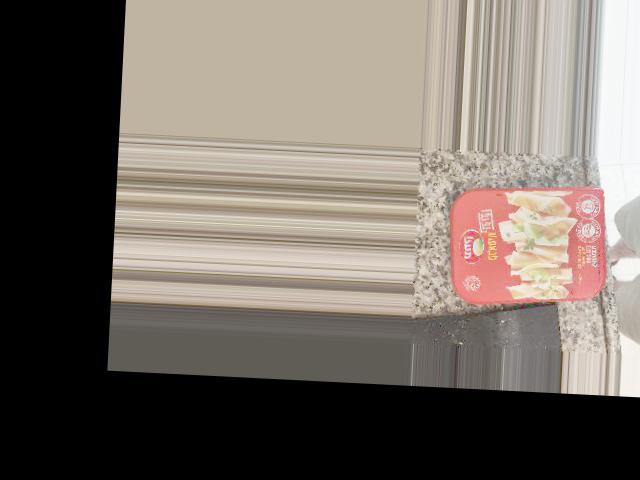cheese: (451, 176, 613, 310)
